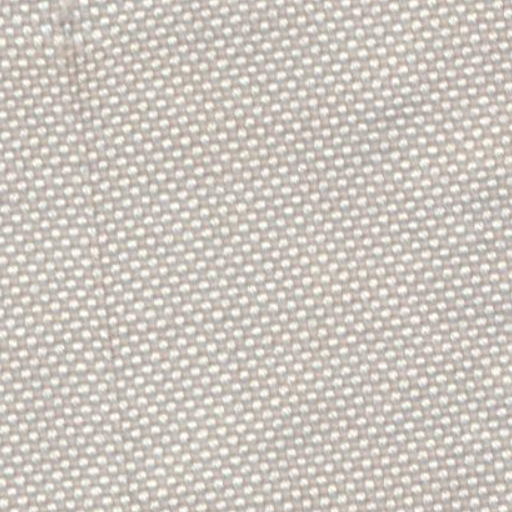TuoSha: (40, 23, 148, 507)
